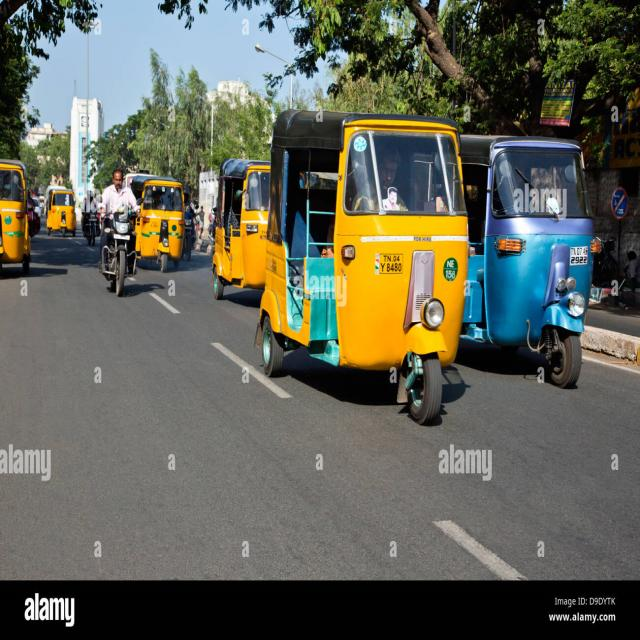autorikshaw: (267, 114, 470, 418), (459, 129, 600, 382), (212, 160, 289, 301), (132, 176, 187, 269), (0, 161, 34, 276), (44, 184, 76, 234)
motorcycle: (99, 199, 142, 294), (80, 203, 99, 249)
